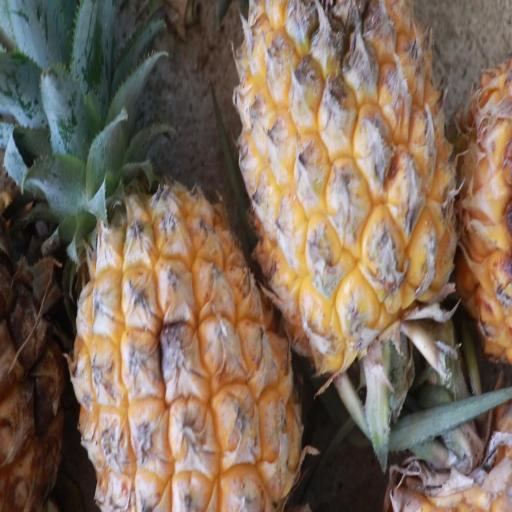Pineapple - v8 v1: (58, 0, 305, 512), (234, 0, 464, 380)
